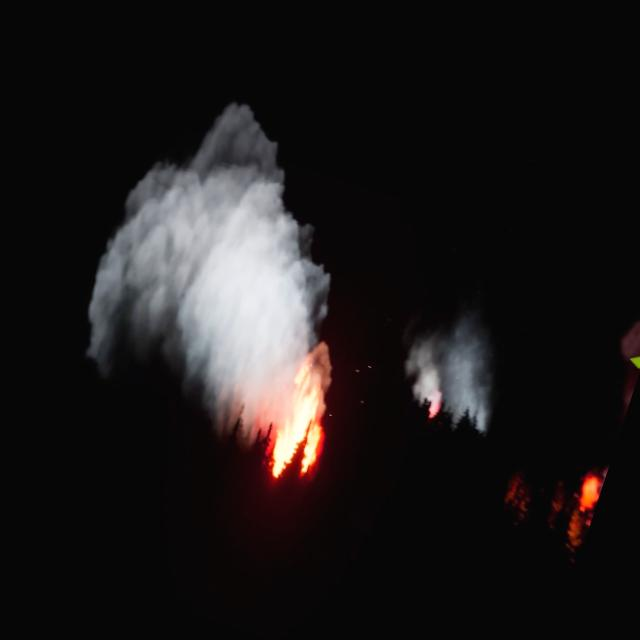fire: (258, 353, 348, 491), (572, 468, 606, 522)
smoke: (61, 71, 407, 462), (392, 308, 520, 442)
